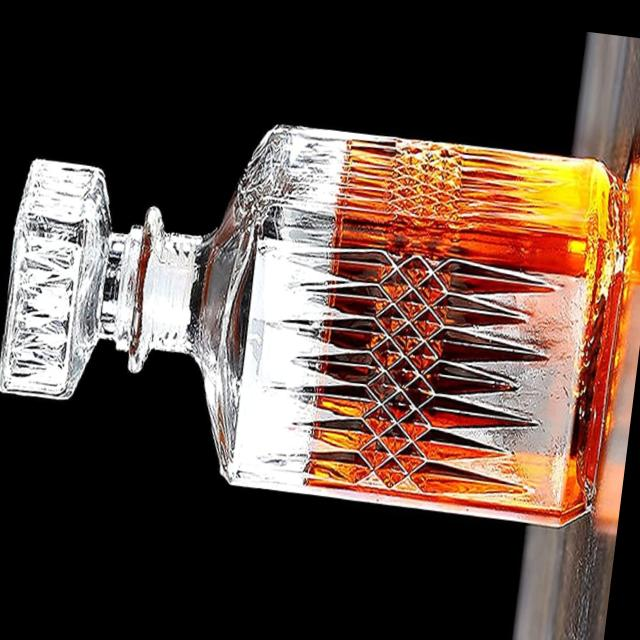glass: (0, 86, 640, 576)
